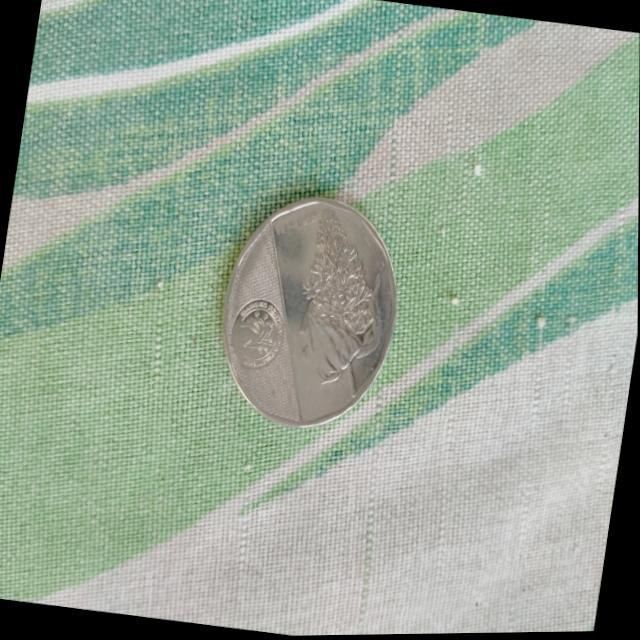10_New_Back: (283, 202, 408, 410)
